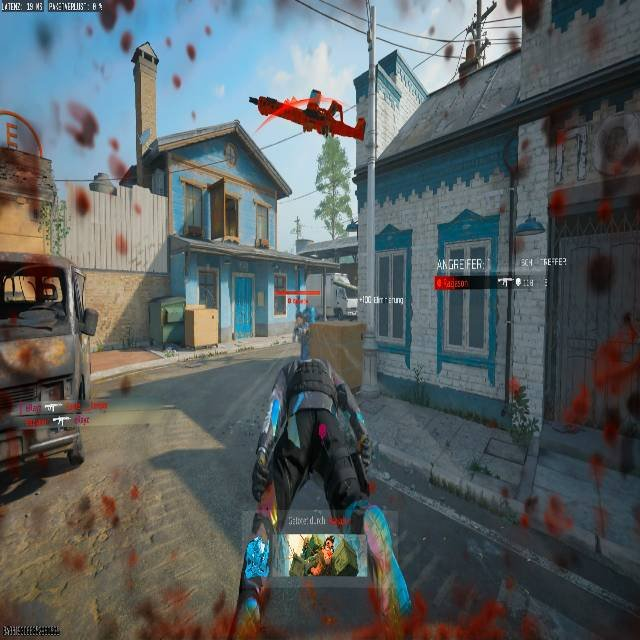player: (597, 306, 640, 487), (291, 301, 309, 344)
